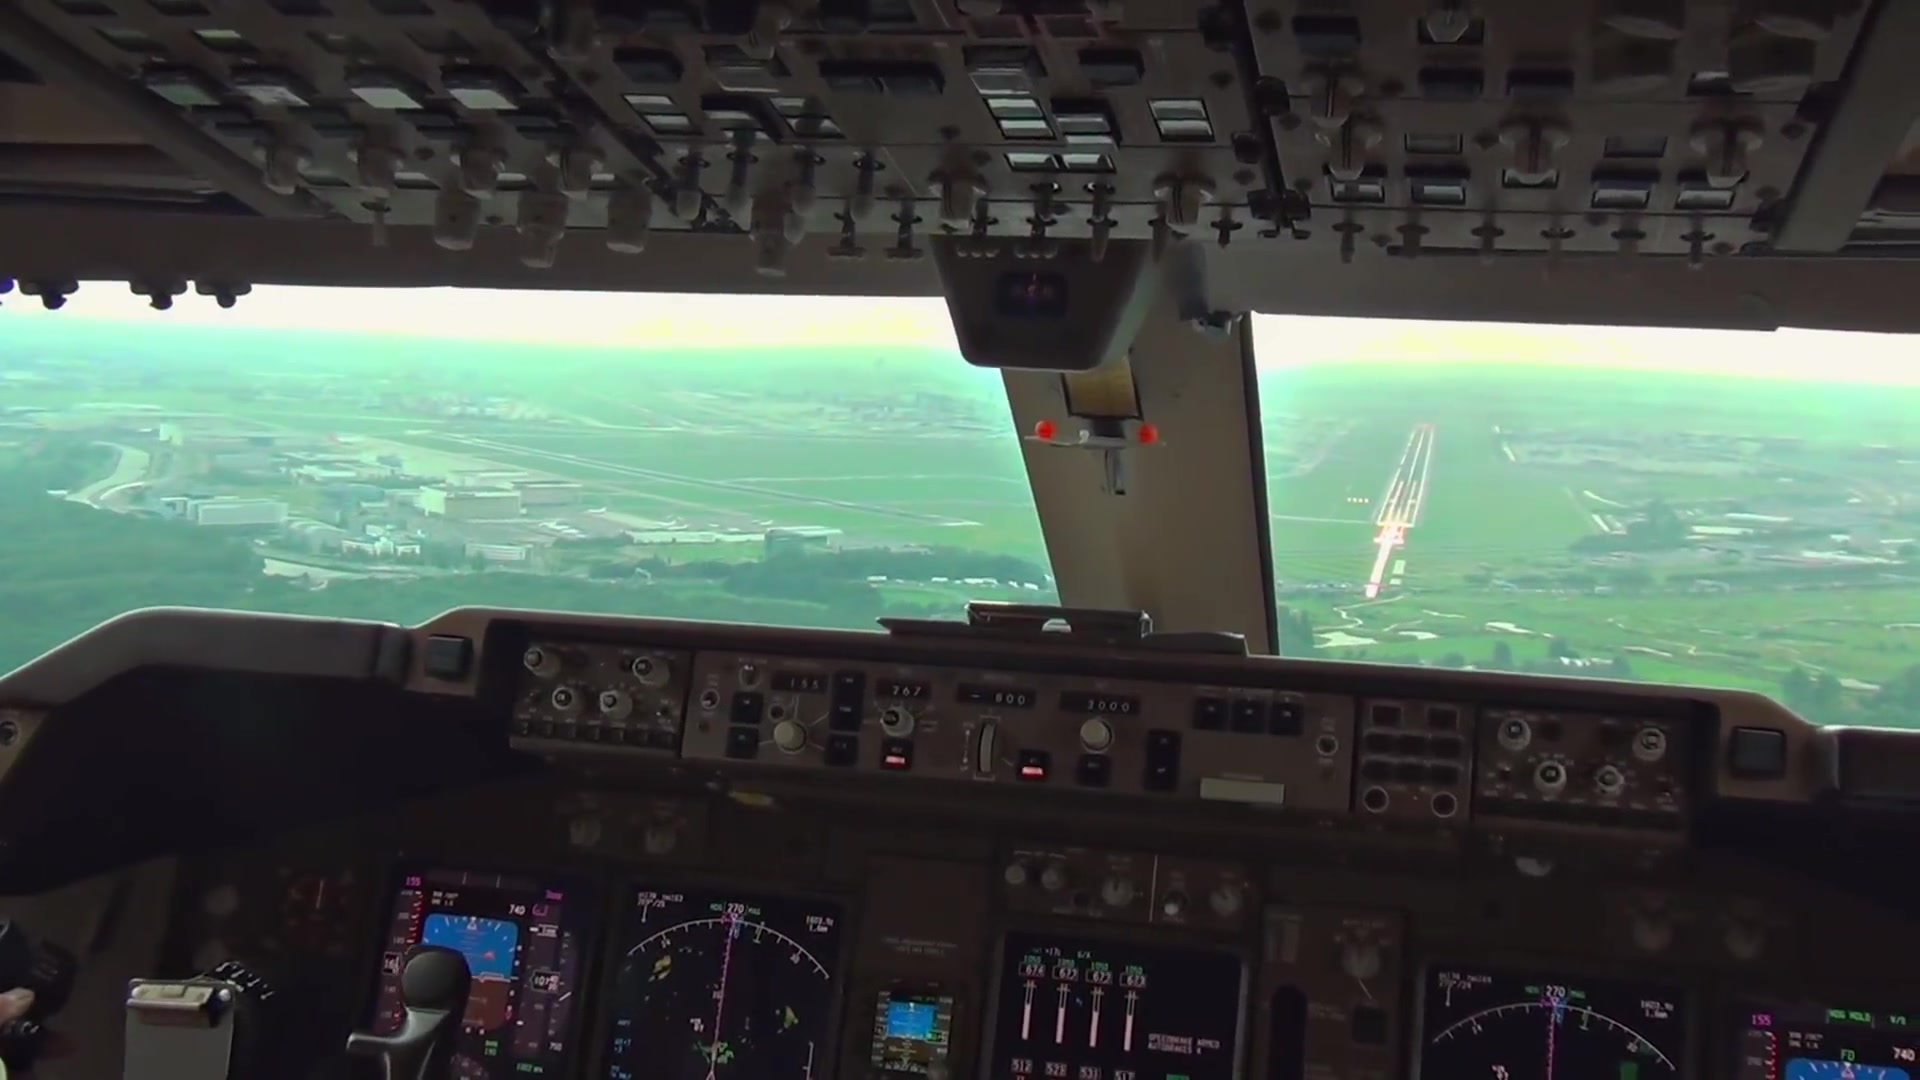runway: (1375, 425, 1436, 527)
